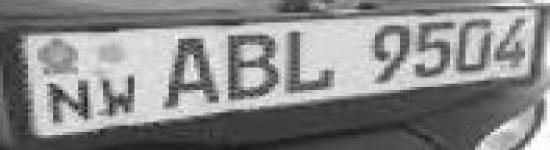0: (456, 16, 496, 74)
4: (493, 16, 534, 69)
5: (412, 17, 460, 81)
9: (358, 19, 415, 86)
A: (152, 35, 226, 110)
B: (282, 25, 353, 93), (223, 30, 283, 101)
N: (41, 78, 96, 124)
W: (98, 72, 152, 118)
